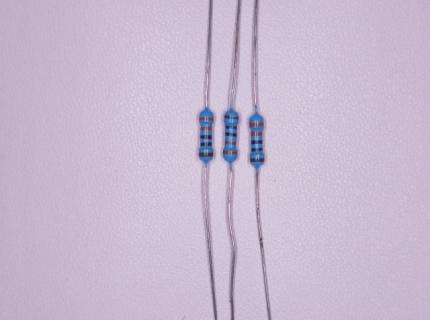Black band: (225, 132, 237, 137), (225, 125, 237, 130), (251, 140, 263, 145), (251, 147, 263, 152), (200, 135, 212, 139), (201, 142, 212, 146)
Brown band: (224, 114, 239, 120), (250, 157, 265, 162), (199, 152, 213, 157)
Orange band: (249, 123, 264, 128), (223, 150, 237, 155), (200, 126, 212, 131), (251, 131, 263, 136), (199, 117, 213, 121), (225, 141, 236, 145)
